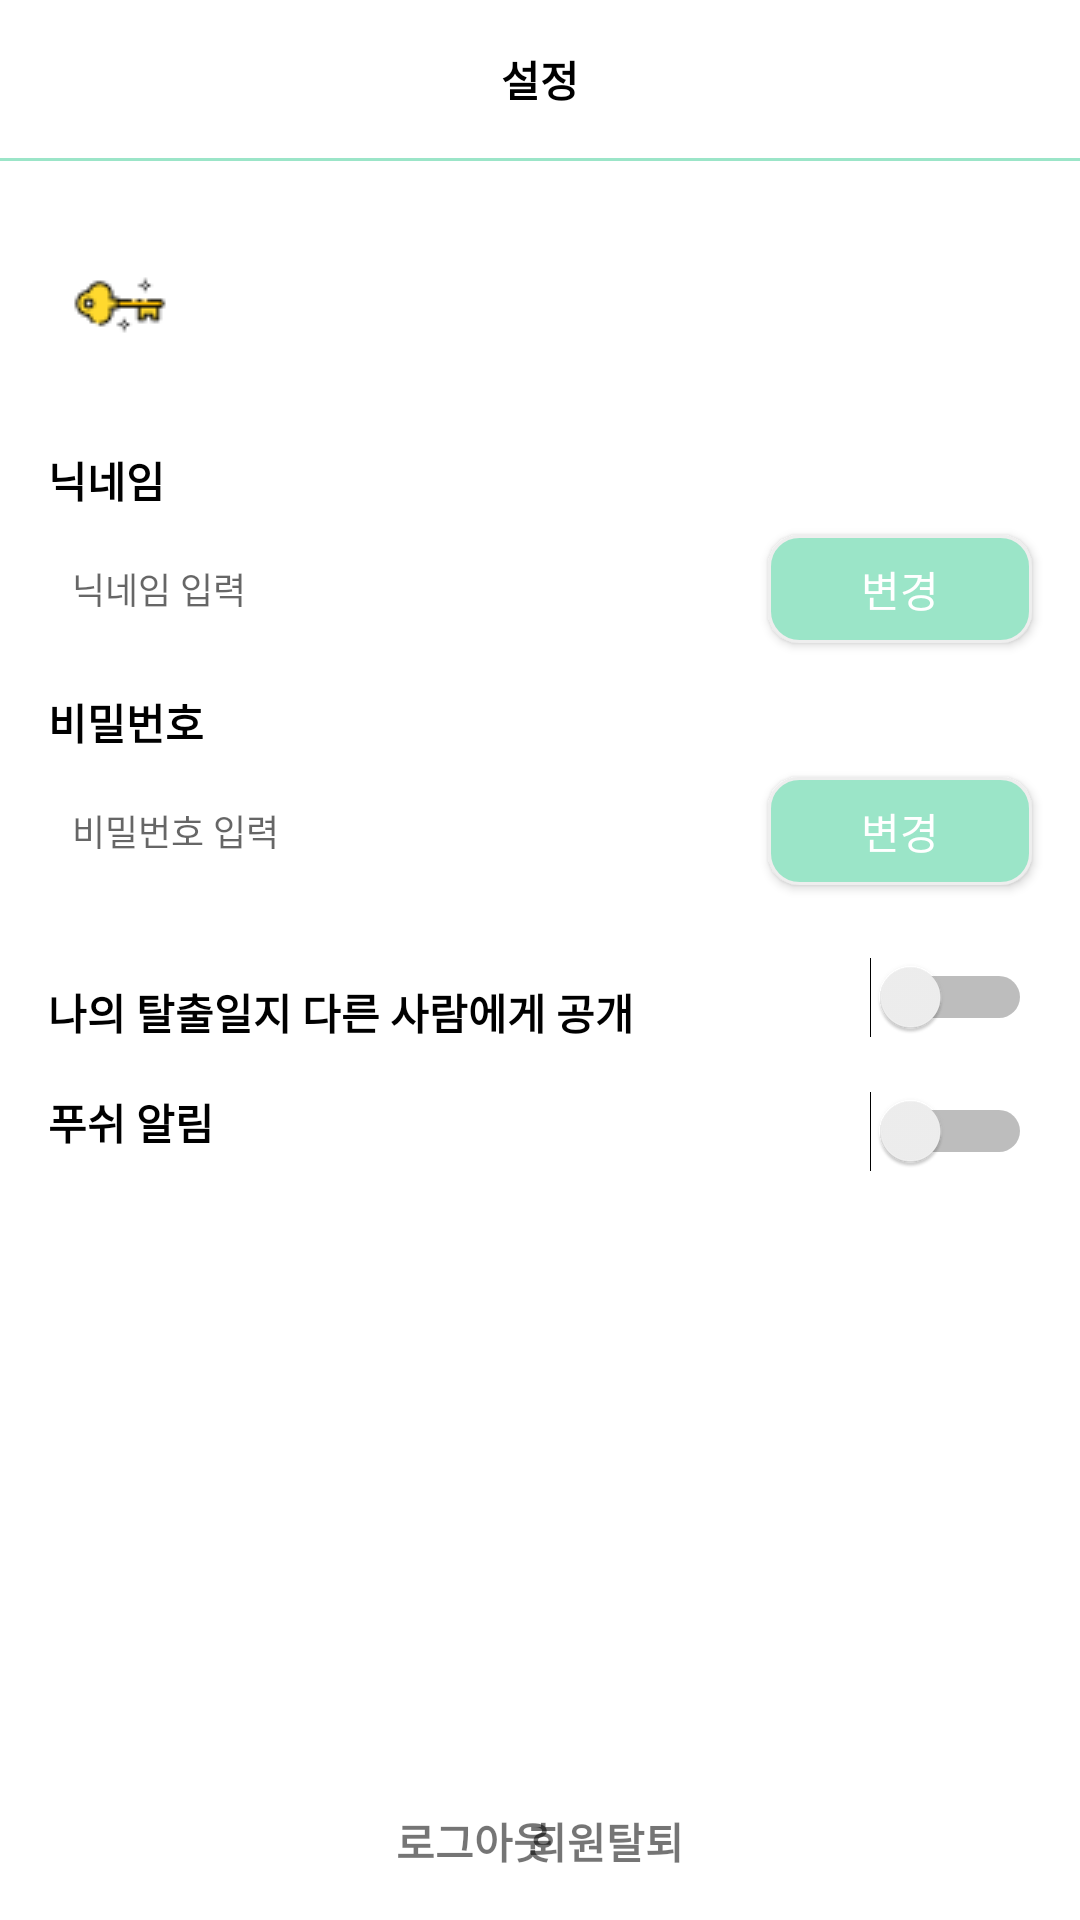

Where to tap for icons on this 1080px x 1920px app screen, as (x=x, y=y):
key: (x=120, y=305)
